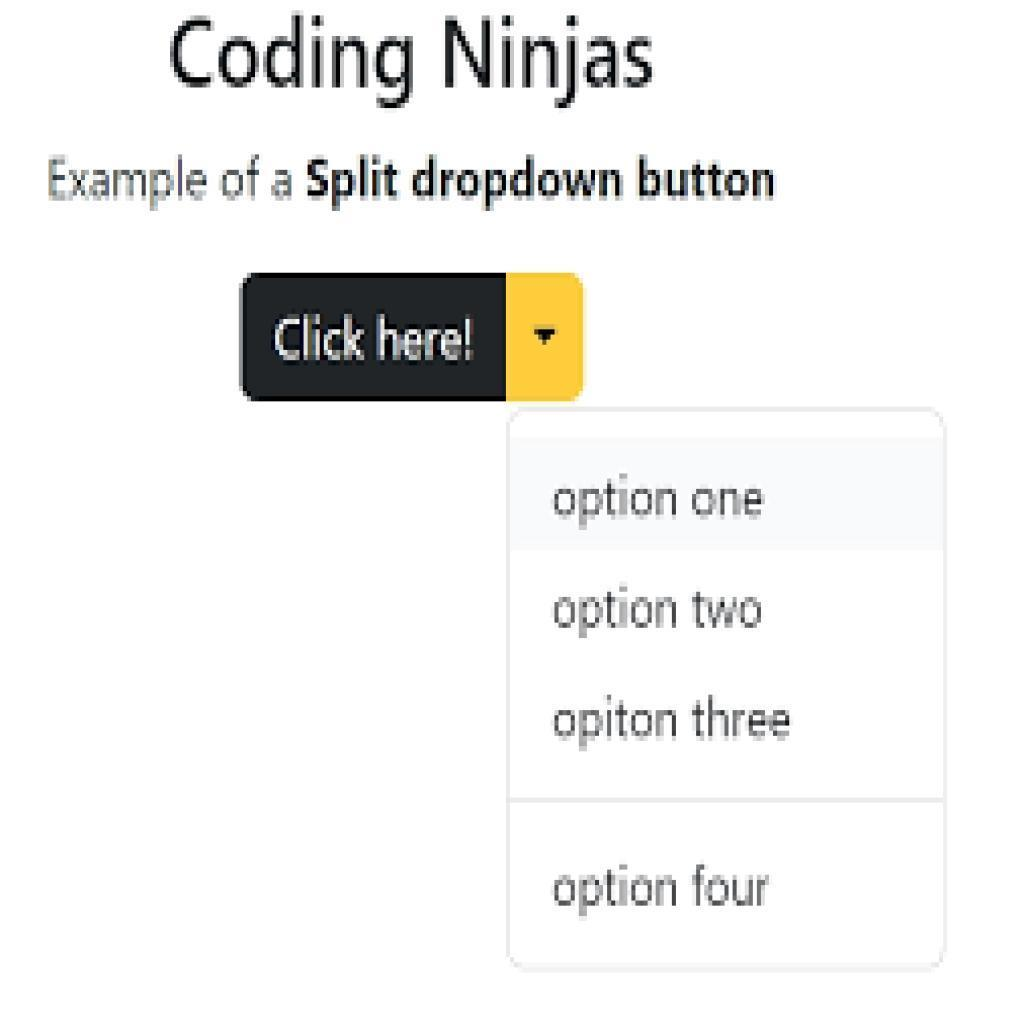button: (507, 798, 947, 969), (514, 418, 950, 549)
dropdown: (241, 274, 585, 401)
label: (542, 690, 797, 759), (548, 582, 767, 649)
